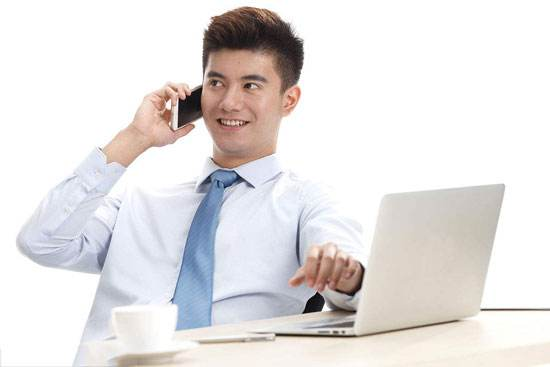calling: (131, 78, 209, 151)
